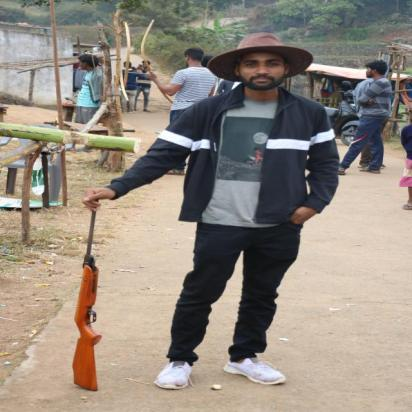Gun: (69, 192, 105, 394)
